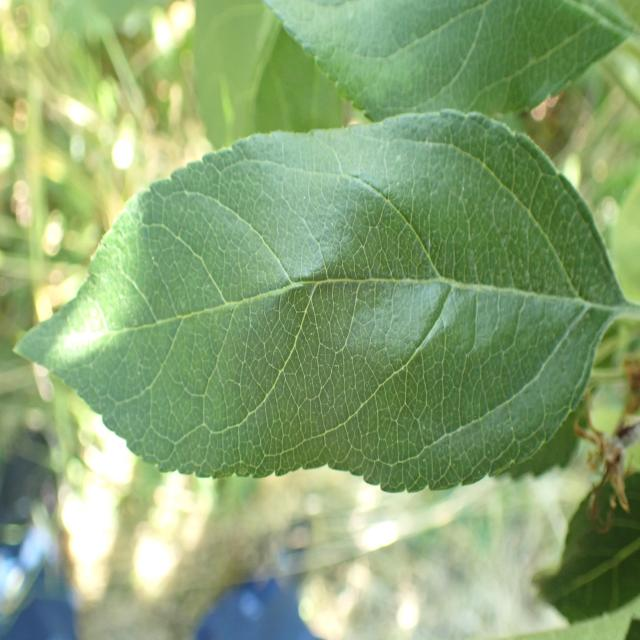healthy: (13, 109, 630, 496), (260, 0, 637, 122)
